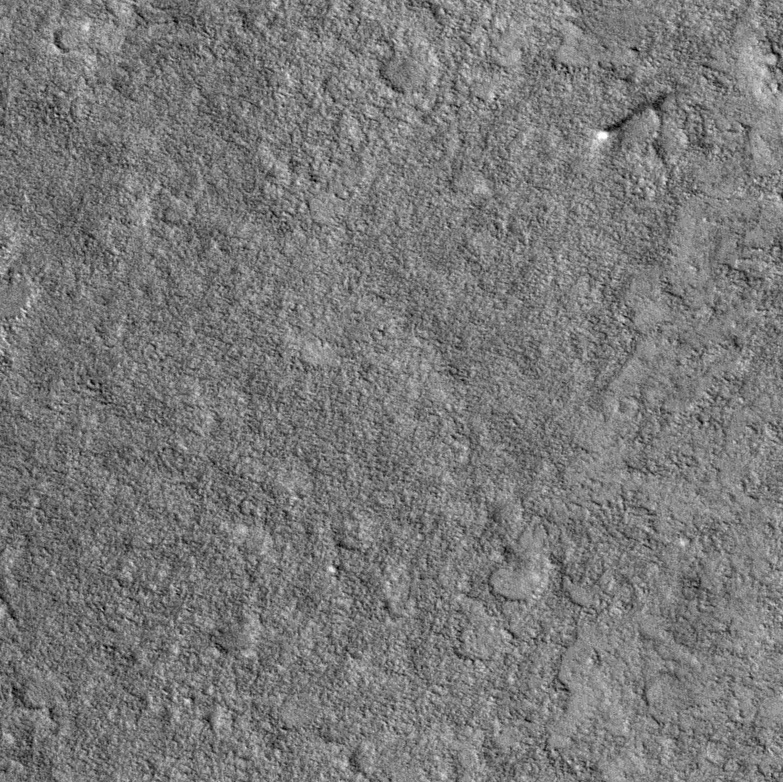dust_devil: (596, 89, 670, 142)
